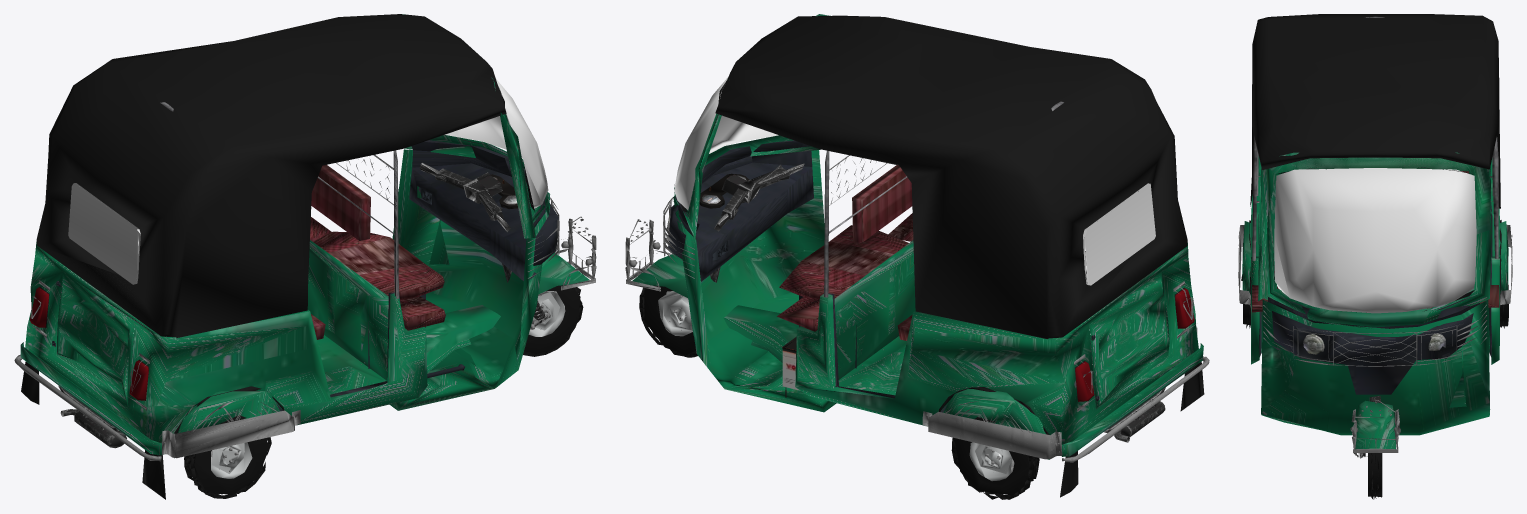
The model's file is cng_lo.glb.
The picture shows the model from 3 angles, left to right: view 1: azimuth 30°, elevation 25°; view 2: azimuth 150°, elevation 25°; view 3: azimuth 270°, elevation 25°; orthographic projection. The views are drawn at different scales.
Visible parts, largest first — view 1: hood_Hood_0, rear mud guard_main base_0, Seat_Seat_0, switch_Dash_0, front glass _glass_0, Front bumper_Bumper and safety_0, Tire_Tire_0, Rim_Rim_0, mud flap_Rubber flap_0, Steering_Steer_0, engine cover support_Black plastic_0, back light_Material.001_0 (+2 smaller); view 2: hood_Hood_0, rear mud guard_main base_0, Seat_Seat_0, switch_Dash_0, front glass _glass_0, Front bumper_Bumper and safety_0, Tire_Tire_0, Rim_Rim_0, Steering_Steer_0, mud flap_Rubber flap_0, battery_Material.003_0, back light_Material.001_0 (+3 smaller); view 3: hood_Hood_0, rear mud guard_main base_0, front glass _glass_0, engine cover support_Black plastic_0, Front bumper_Bumper and safety_0, hood support_Frame support_0, Tire_Tire_0, switch_Dash_0, battery_Material.003_0, Seat_Seat_0, mud flap_Rubber flap_0.
Boxes of the visible parts, x1,y1,x2,y2 form: hood_Hood_0: (36,14,506,337); rear mud guard_main base_0: (20,14,589,458); Seat_Seat_0: (310,164,445,339); switch_Dash_0: (409,140,545,280); front glass _glass_0: (68,79,548,284); Front bumper_Bumper and safety_0: (14,154,596,461); Tire_Tire_0: (184,285,583,498); Rim_Rim_0: (211,291,565,478); mud flap_Rubber flap_0: (21,88,534,499); Steering_Steer_0: (419,163,510,231); engine cover support_Black plastic_0: (52,203,558,411); back light_Material.001_0: (30,287,148,400); hood_Hood_0: (715,15,1187,338); rear mud guard_main base_0: (632,14,1203,459); Seat_Seat_0: (777,165,913,340); switch_Dash_0: (675,140,813,281); front glass _glass_0: (674,76,1155,285); Front bumper_Bumper and safety_0: (625,155,1209,462); Tire_Tire_0: (639,285,1039,499); Rim_Rim_0: (658,291,1012,481); Steering_Steer_0: (714,163,804,231); mud flap_Rubber flap_0: (674,80,1204,497); battery_Material.003_0: (667,173,800,397); back light_Material.001_0: (1075,288,1194,401); hood_Hood_0: (1250,14,1500,208); rear mud guard_main base_0: (1242,152,1508,449); front glass _glass_0: (1274,168,1476,313); engine cover support_Black plastic_0: (1258,173,1492,394); Front bumper_Bumper and safety_0: (1238,176,1512,452); hood support_Frame support_0: (1252,16,1498,260); Tire_Tire_0: (1243,247,1508,499); switch_Dash_0: (1268,296,1479,349); battery_Material.003_0: (1303,333,1445,354); Seat_Seat_0: (1252,171,1499,312); mud flap_Rubber flap_0: (1241,167,1501,311).
Bounding box in the file's own units: 2.5 × 1.6 × 1.27.
Materials: 22 (14 with a texture image).
